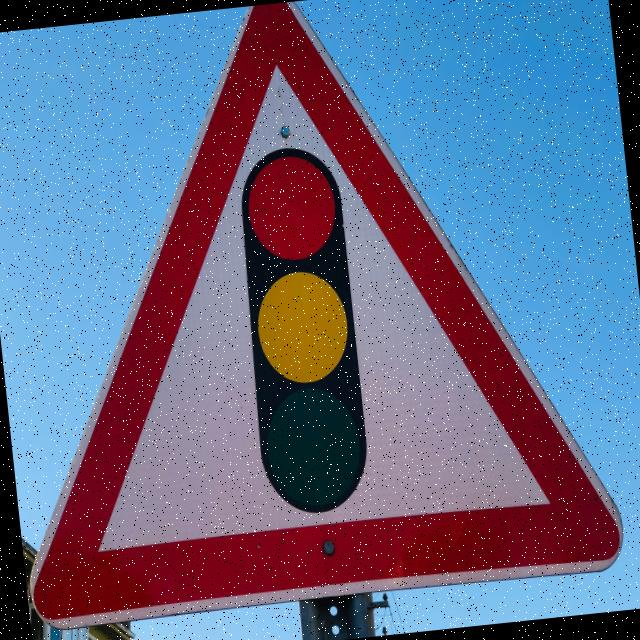light_traffic: (0, 0, 629, 639)
